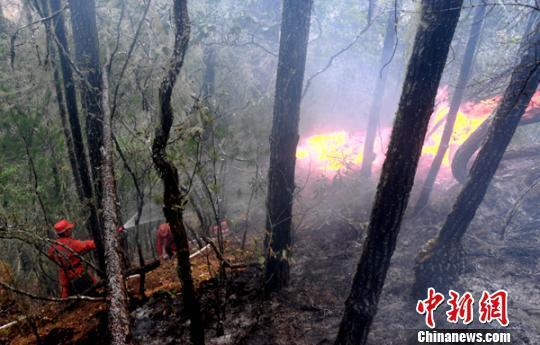fire: (423, 85, 502, 178), (295, 127, 392, 177), (524, 85, 538, 109)
